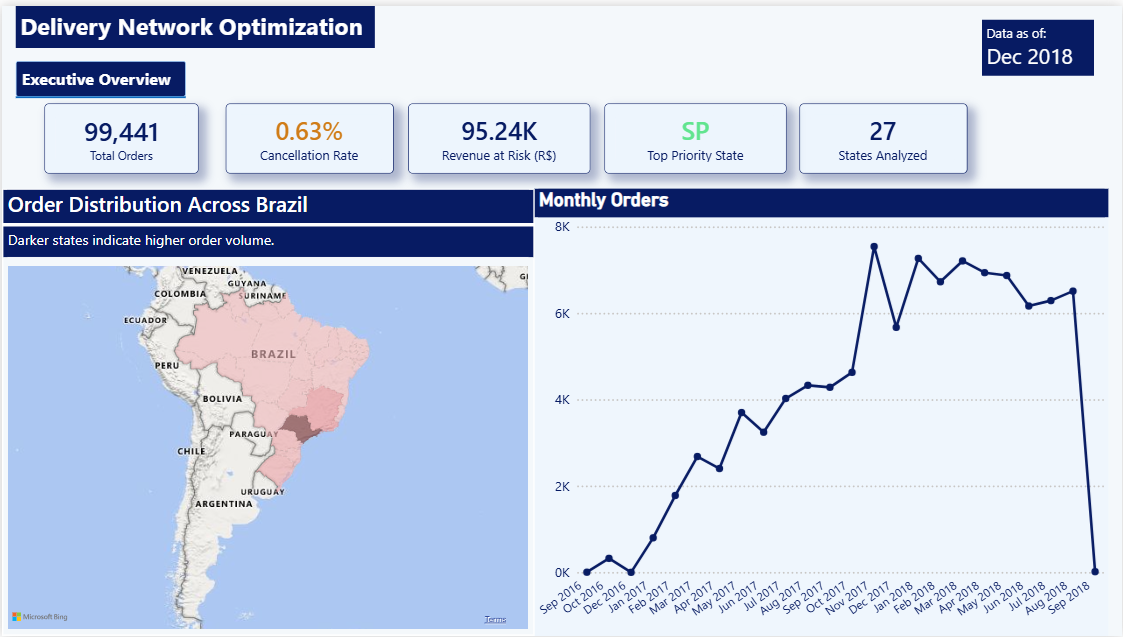

This screenshot's page, from the dashboard's own definition file:
{"tool":"powerbi","page":{"name":"Executive Overview","canvas":[1280,720],"ordinal":0},"visuals":[{"type":"textbox","box":[16,0,410,48],"z":0},{"type":"textbox","box":[16,63,194,41],"z":1000},{"type":"shape","box":[15.7,87.1,194.3,34.3],"z":2000},{"type":"textbox","box":[1120,16,128,64],"z":3000},{"type":"cardVisual","fields":{"Data":["Count(public fact_orders.customer_id)"]},"box":[48,112,176,80],"z":4000},{"type":"cardVisual","fields":{"Data":["public dim_customer.Overall Cancellation Rate"]},"box":[256,112,192,80],"z":5000},{"type":"cardVisual","fields":{"Data":["Sum(public revenue_at_risk_state.revenue_at_risk)"]},"box":[464,112,208,80],"z":6000},{"type":"cardVisual","fields":{"Data":["public dim_date.States Analyzed"]},"box":[912,112,192,80],"z":7000},{"type":"cardVisual","fields":{"Data":["public executive_recommendation.Top Priority State"]},"box":[688,112,208,80],"z":8000},{"type":"filledMap","title":"Order Distribution Across Brazil","fields":{"Category":["public dim_state.state_name"]},"box":[0,208.6,608.6,511.4],"z":9000},{"type":"lineChart","title":"Monthly Orders","fields":{"Category":["public dim_date.new_Month"],"Y":["Count(public fact_orders.order_id)"]},"box":[608,208,656,512],"z":10000},{"type":"shape","box":[0,224.3,608.6,51.4],"z":11000}]}

Visuals, with their boxes in screenshot pixels (x1, y1, x2, y2), scaled from the page's 1280x720 canvas onto the 1123x637 screenshot:
textbox: [left=14, top=0, right=374, bottom=42]
textbox: [left=14, top=56, right=184, bottom=92]
shape: [left=14, top=77, right=184, bottom=107]
textbox: [left=983, top=14, right=1095, bottom=71]
cardVisual - Count(public fact_orders.customer_id): [left=42, top=99, right=197, bottom=170]
cardVisual - public dim_customer.Overall Cancellation Rate: [left=225, top=99, right=393, bottom=170]
cardVisual - Sum(public revenue_at_risk_state.revenue_at_risk): [left=407, top=99, right=590, bottom=170]
cardVisual - public dim_date.States Analyzed: [left=800, top=99, right=969, bottom=170]
cardVisual - public executive_recommendation.Top Priority State: [left=604, top=99, right=786, bottom=170]
"Order Distribution Across Brazil" filledMap: [left=0, top=185, right=534, bottom=636]
"Monthly Orders" lineChart: [left=533, top=184, right=1109, bottom=636]
shape: [left=0, top=198, right=534, bottom=244]
